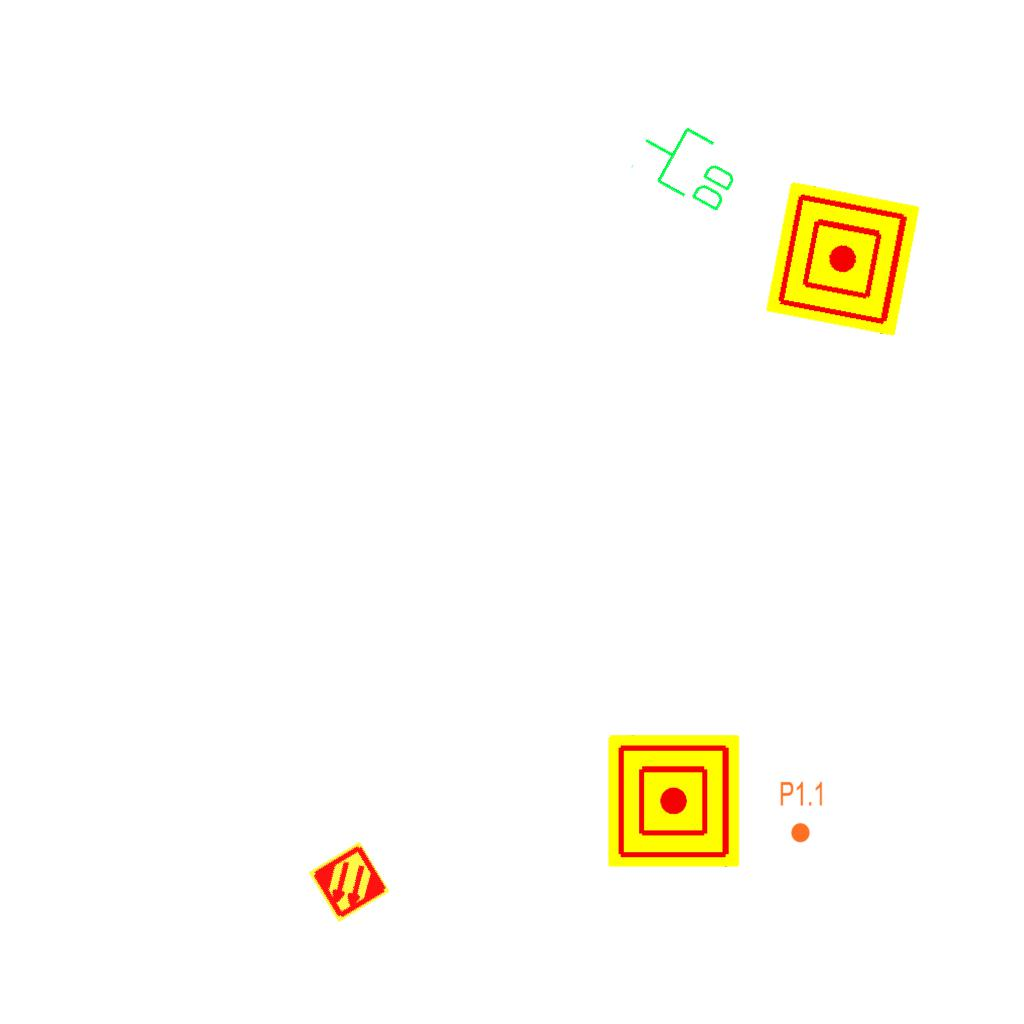ASR_Ansaugrauchmelder: (306, 839, 392, 925)
Datenanschluss_zweifach: (626, 109, 751, 220)
Downlight_LED_Einbauleuchten_Flur: (779, 780, 825, 844)
NAM-Nichtautomatischer_Melder: (765, 181, 921, 337), (608, 735, 740, 867)
